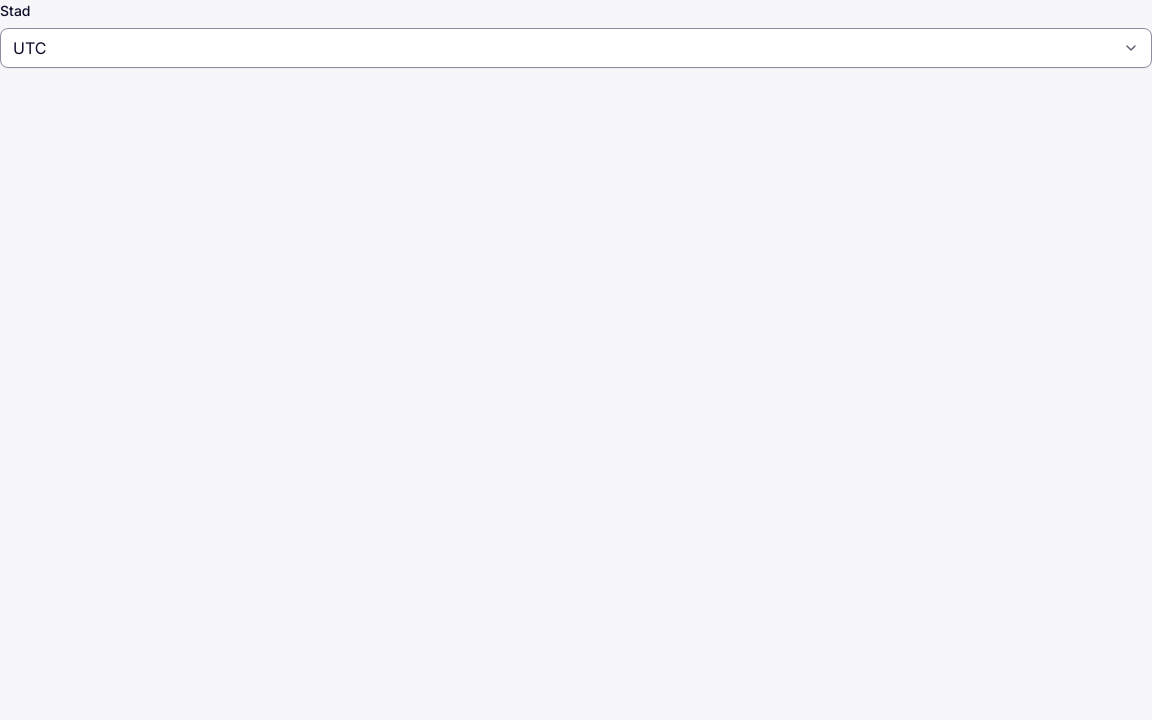
Test: SelectField with many options › speaks the reader’s language
This screenshot has width=1152, height=720.
Click the dropdown named "Stad": point(30, 48) [0,28,1151,68]
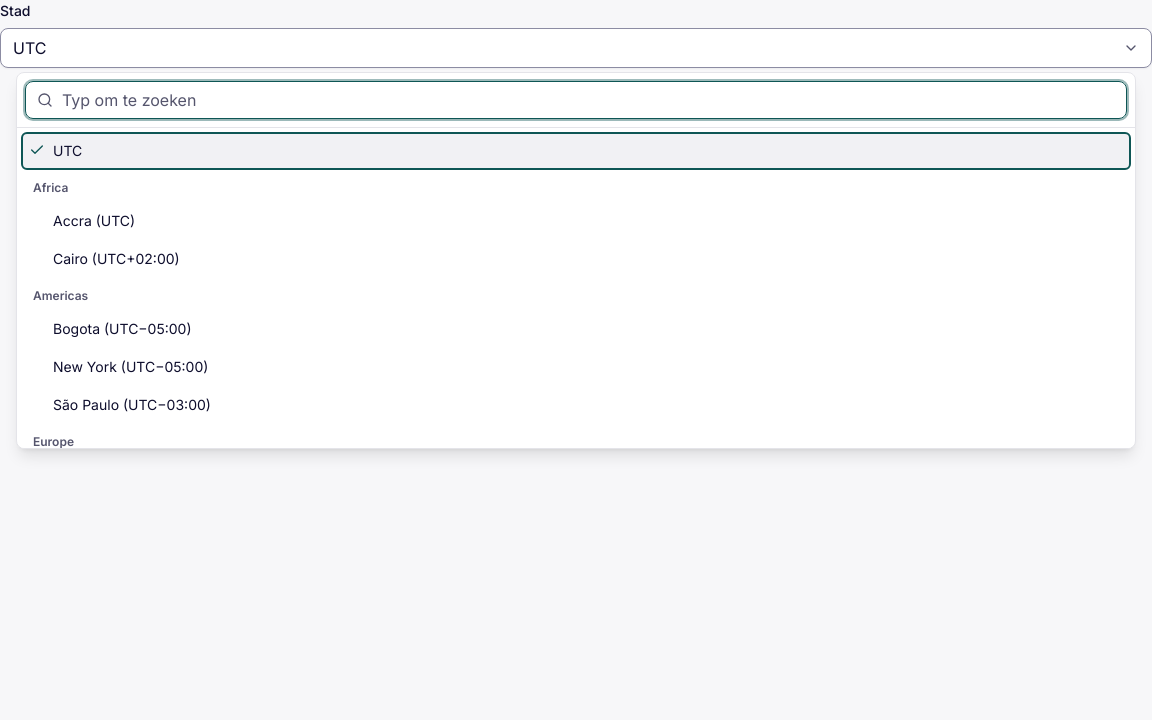
Type keys "atlantis"
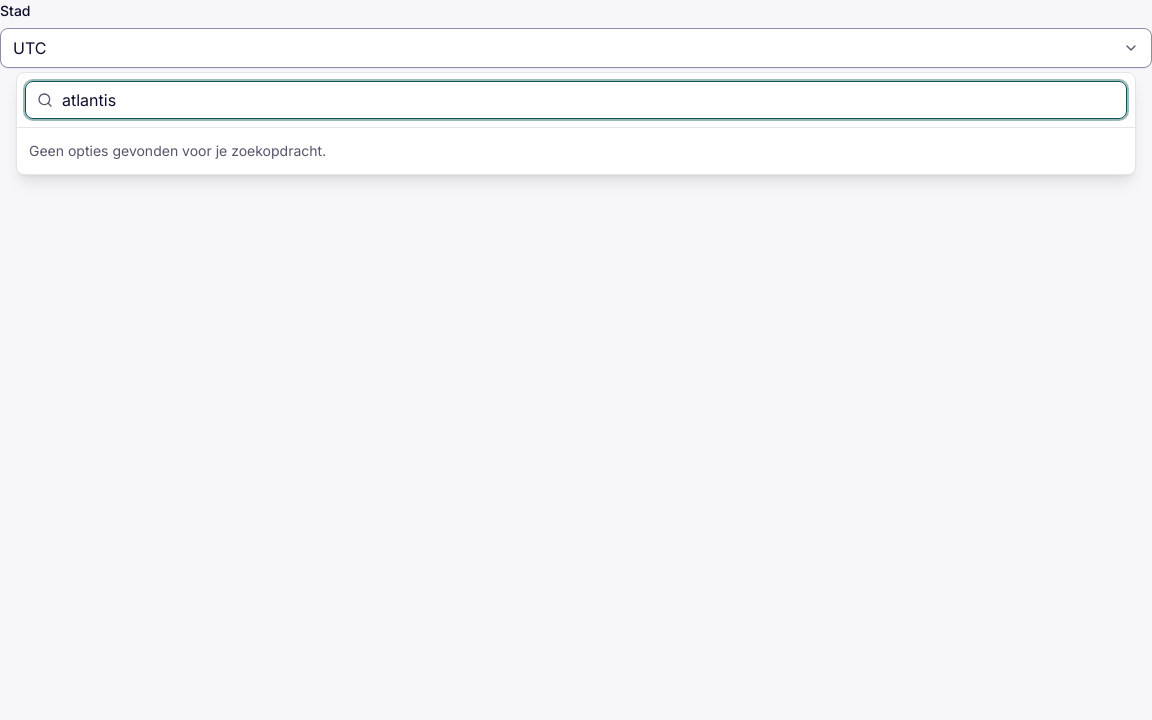
Expected: the text "Geen opties gevonden voor je zoekopdracht." is shown, [29,142,326,159]
